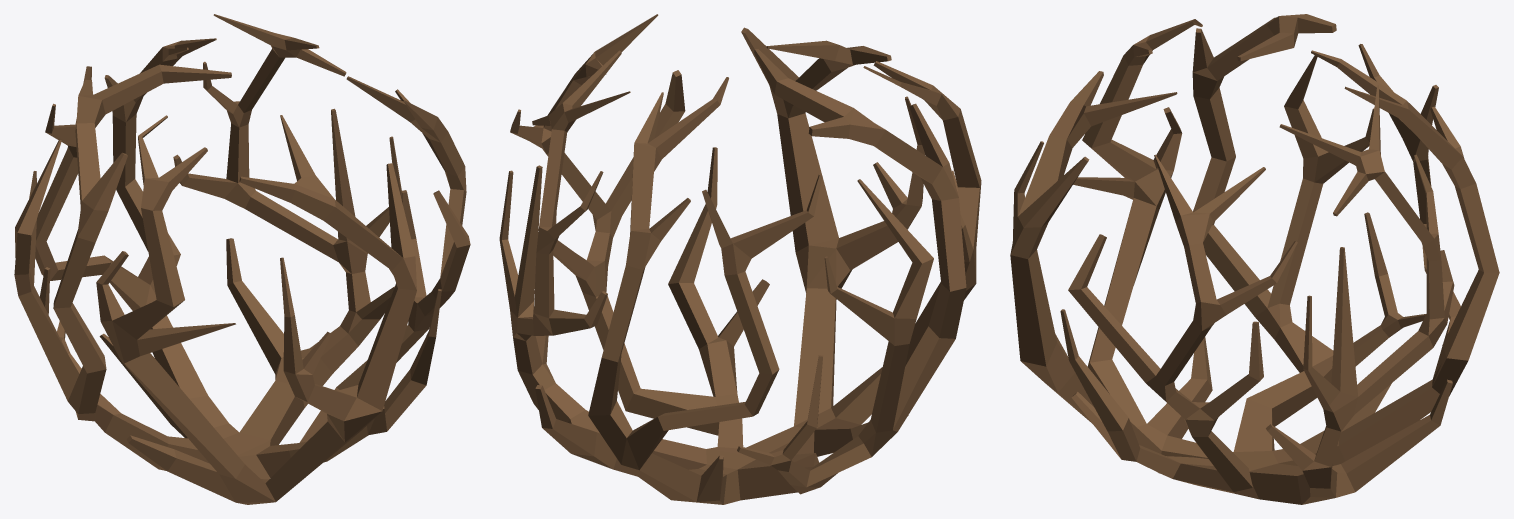
Rendered from Tumbleweed.fbx.
3 renders of one model, left to right at view 1: azimuth 30°, elevation 25°; view 2: azimuth 150°, elevation 25°; view 3: azimuth 270°, elevation 25°, orthographic. The views are drawn at different scales.
Parts seen in each view (by area): view 1: Tumbleweed; view 2: Tumbleweed; view 3: Tumbleweed.
Boxes of the visible parts, x1=… form: Tumbleweed: x1=14, y1=14, x2=470, y2=504; Tumbleweed: x1=499, y1=14, x2=981, y2=504; Tumbleweed: x1=1010, y1=14, x2=1499, y2=504.
Size of the model in its own units: 142 by 136 by 143.
